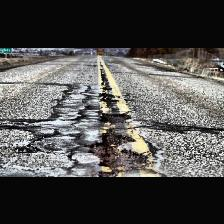pothole: (87, 132, 145, 176), (98, 112, 132, 122)
